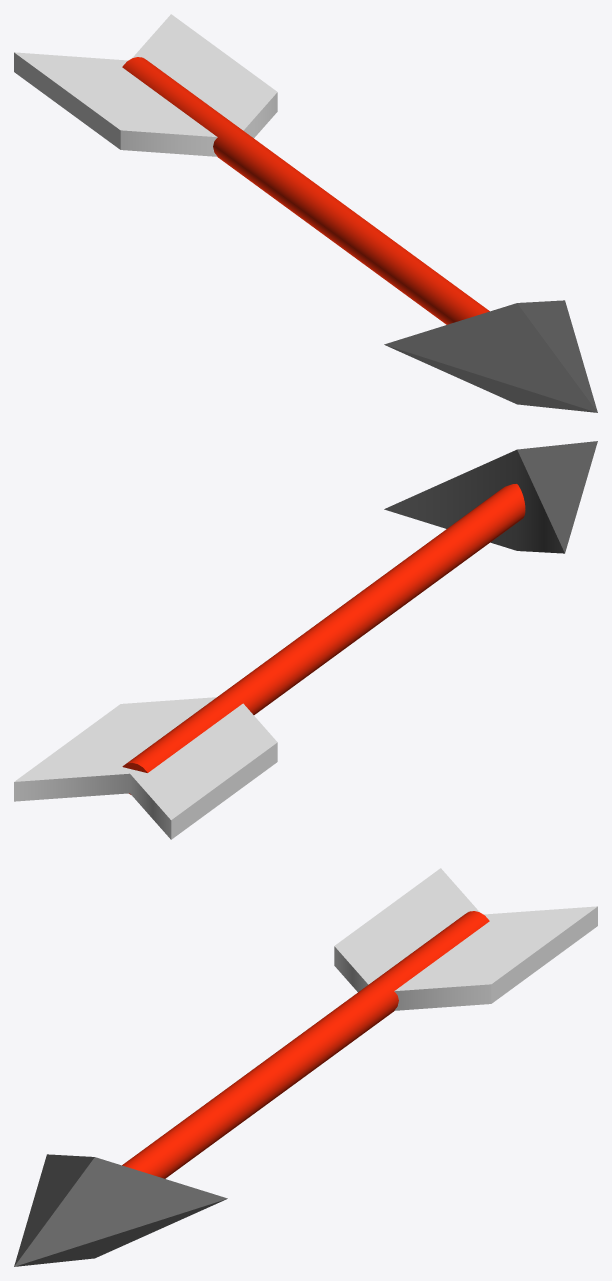
File: Arrow.FBX
The picture shows the model from 3 angles, top to bottom: view 1: azimuth 30°, elevation 25°; view 2: azimuth 150°, elevation 25°; view 3: azimuth 330°, elevation 25°; orthographic projection.
Parts seen in each view (by area): view 1: Box001, Cylinder001, Pyramid001; view 2: Box001, Cylinder001, Pyramid001; view 3: Box001, Cylinder001, Pyramid001.
Boxes of the visible parts, x1,y1,x2,y2 form: Box001: (14,14,277,156); Cylinder001: (122,57,489,324); Pyramid001: (384,300,597,412); Box001: (14,697,277,839); Cylinder001: (122,484,525,794); Pyramid001: (384,441,597,553); Box001: (334,868,597,1010); Cylinder001: (122,911,489,1178); Pyramid001: (14,1154,227,1266).
Bounding box in the file's own units: 10.02 × 5.36 × 48.36.
